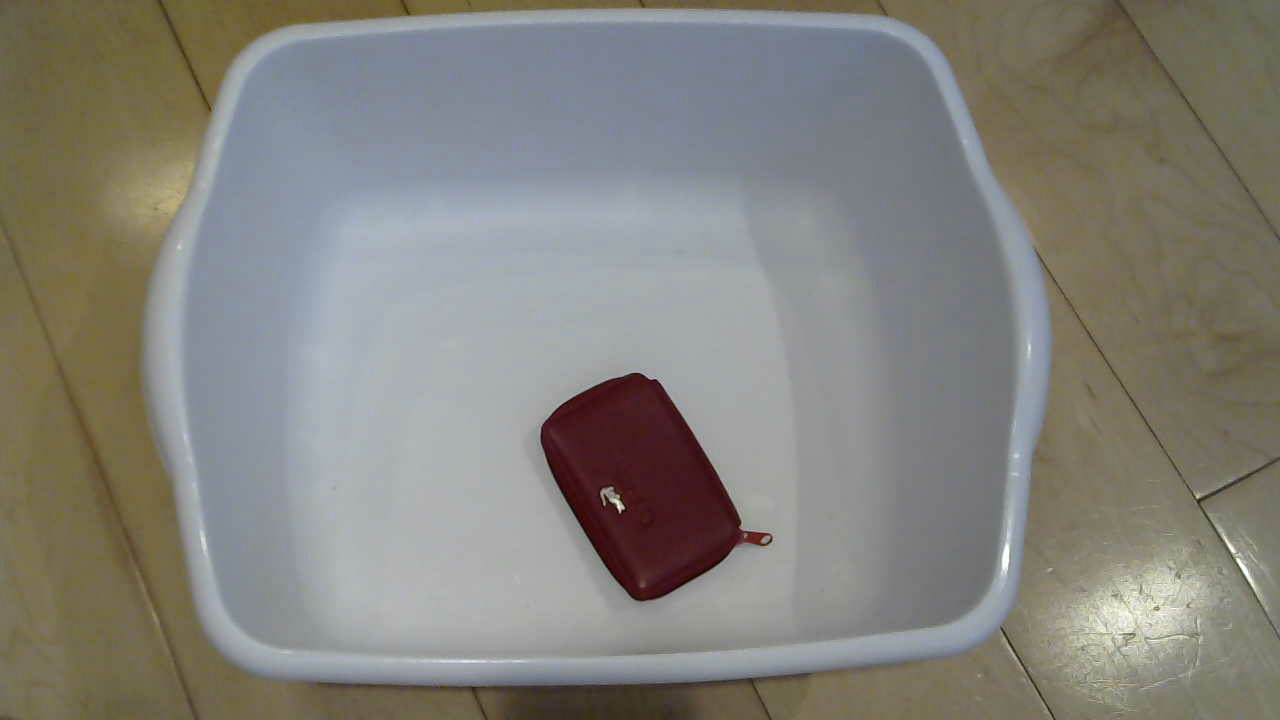wallet: (531, 359, 767, 599)
